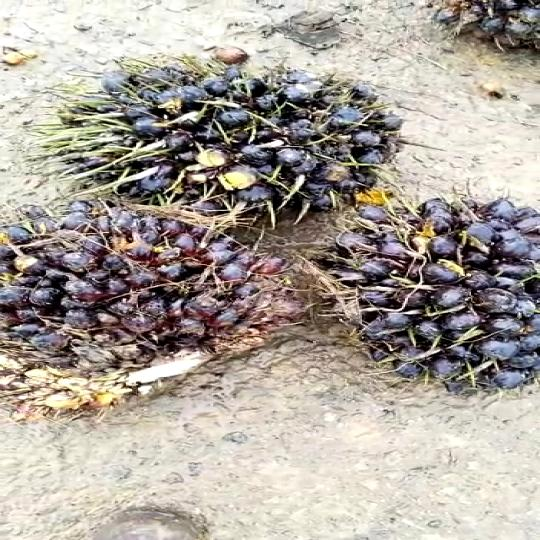mentah: (44, 50, 401, 218), (0, 191, 273, 403), (315, 187, 540, 398)
